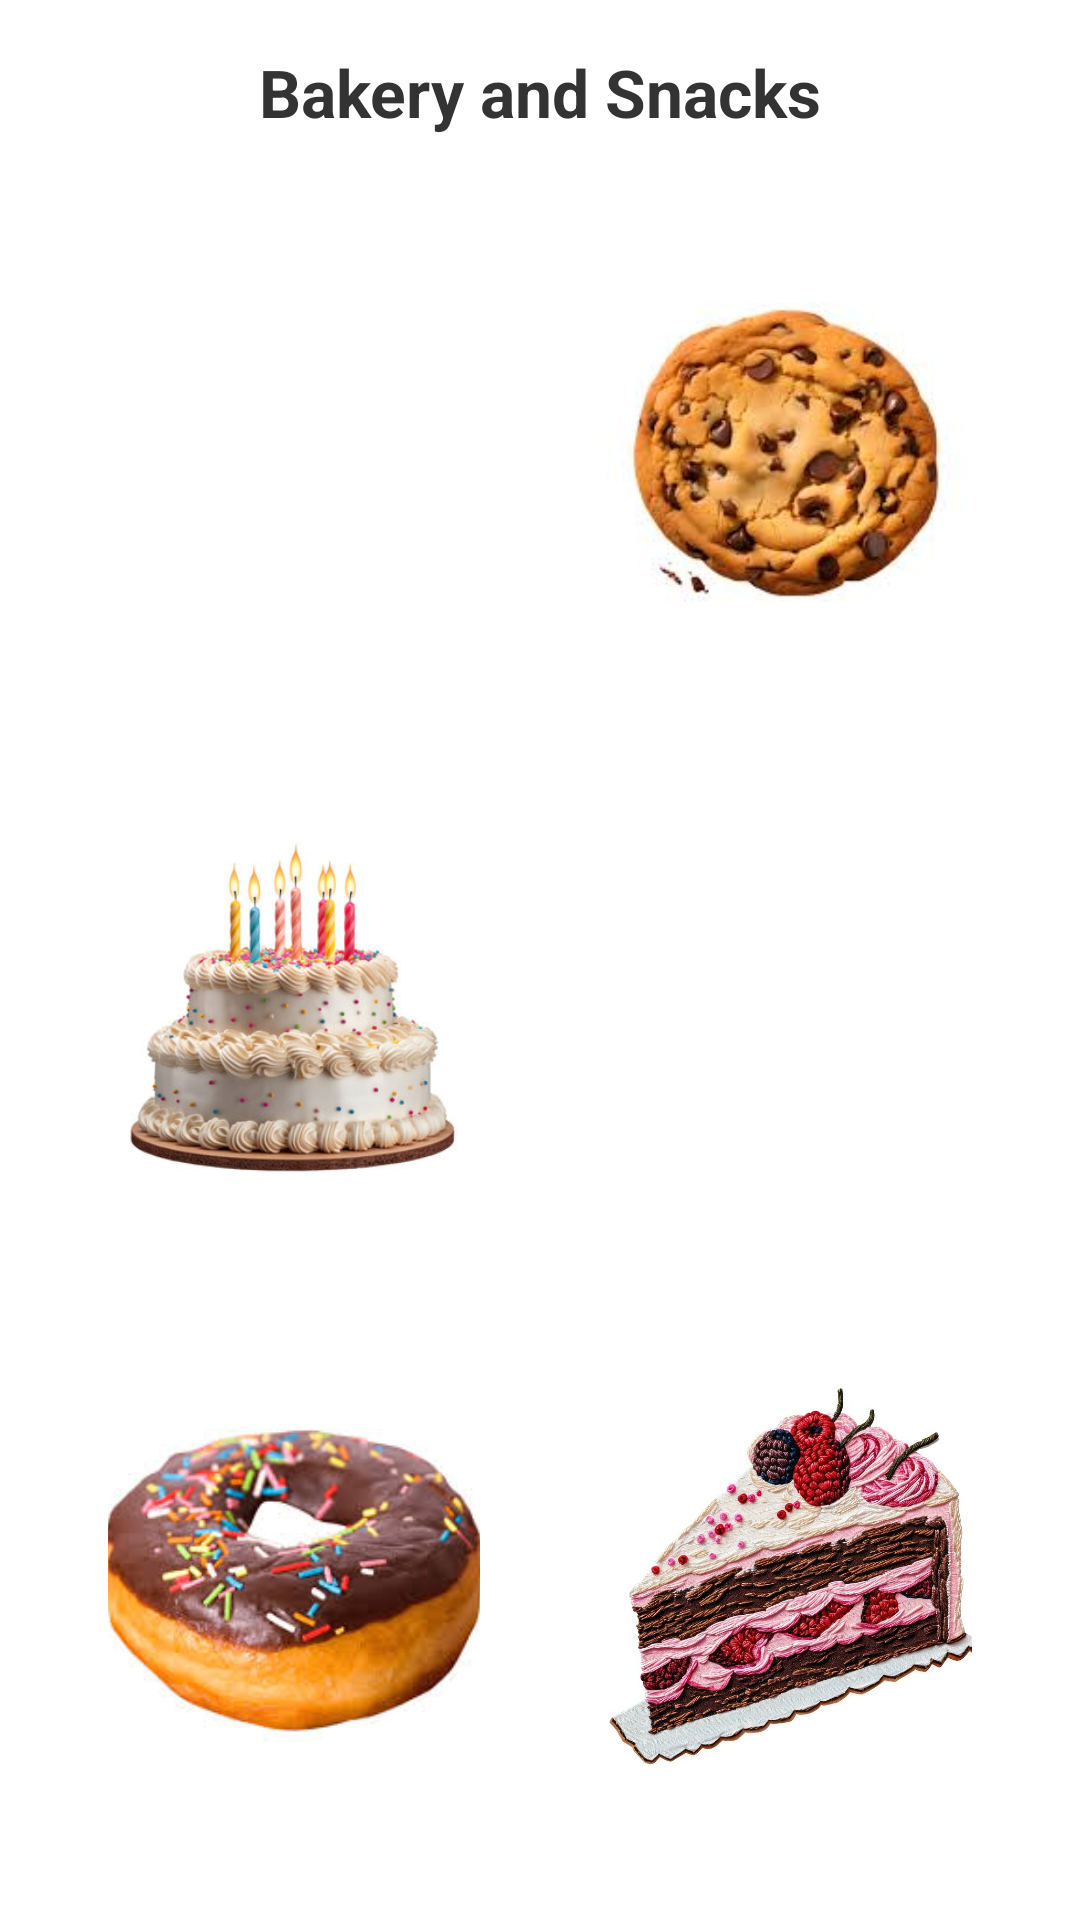

Icons on this 1080w x 1920h Android screen, each with the point to tap as [x,y]:
cake: [292,1008]
cookies: [785,453]
